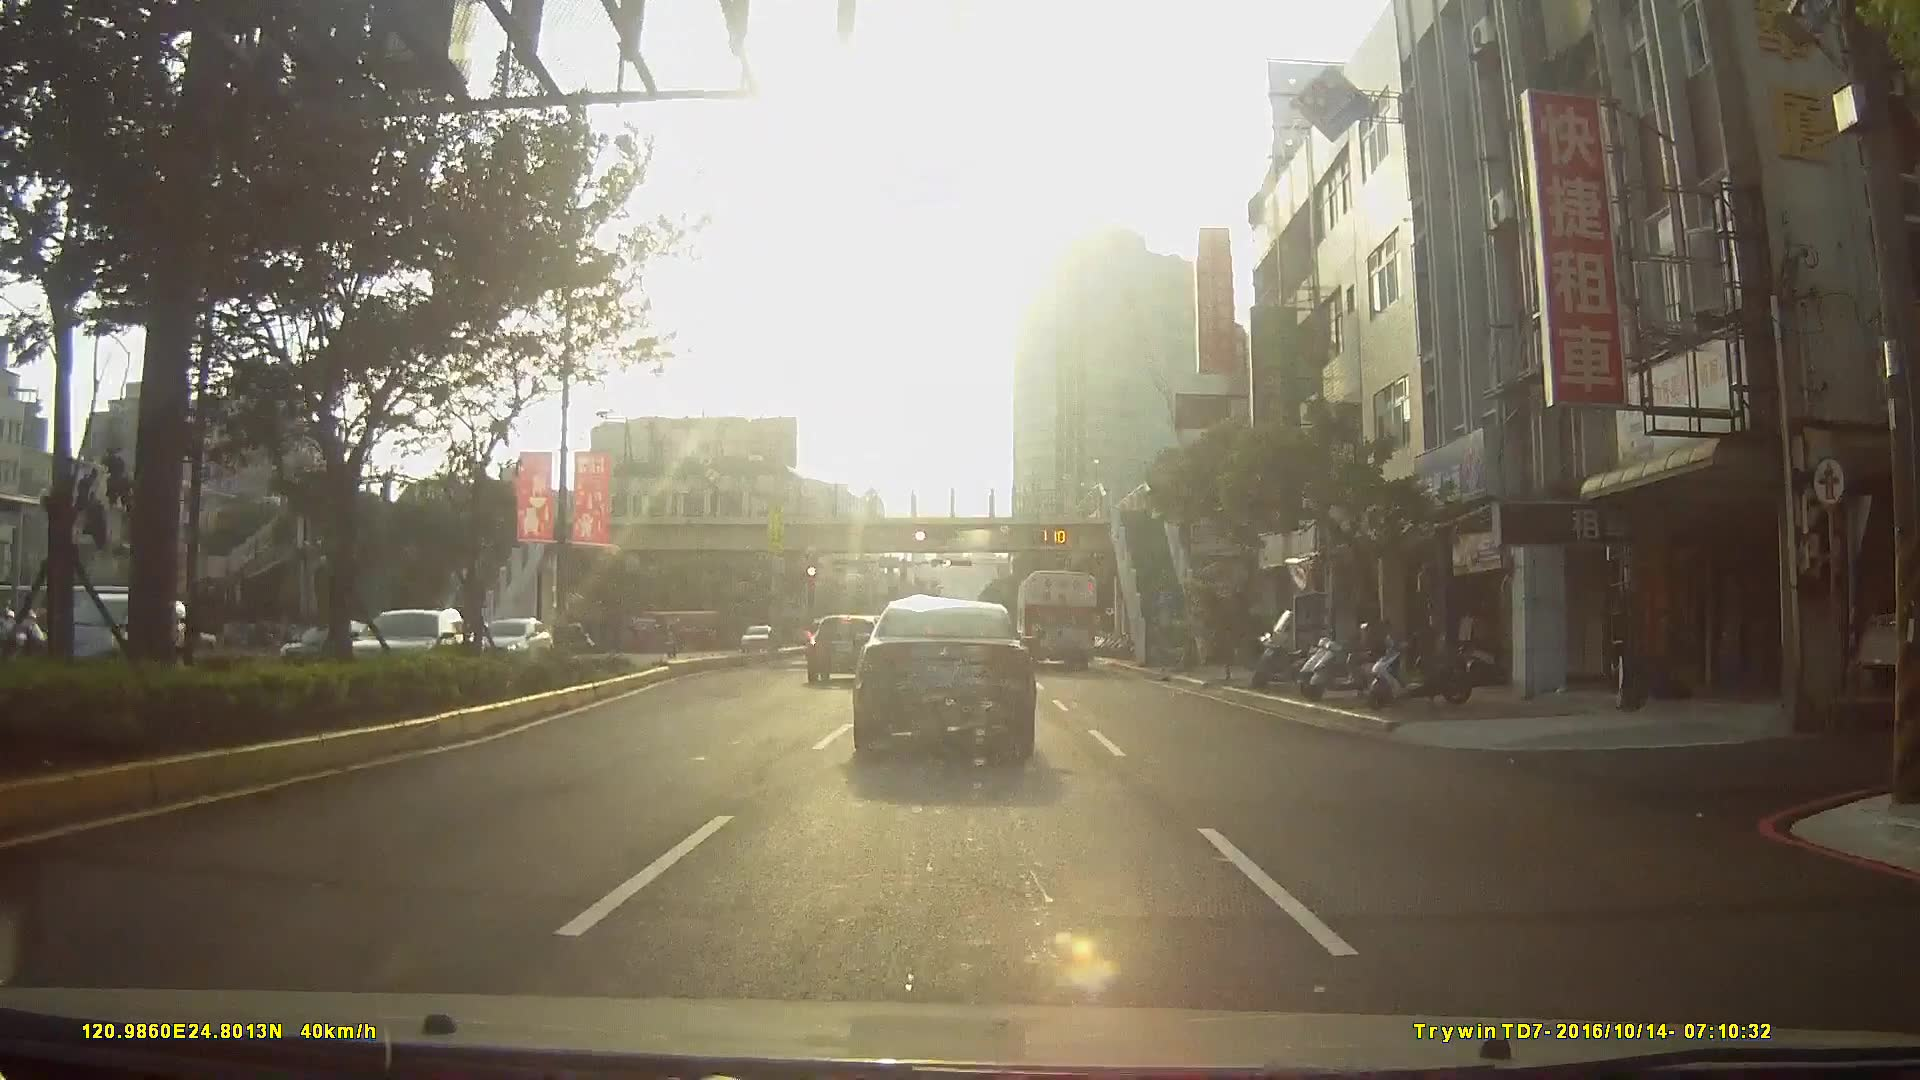vehicle: (851, 597, 1036, 756), (38, 582, 189, 670), (1011, 566, 1100, 669), (803, 615, 880, 688), (736, 622, 774, 651)
